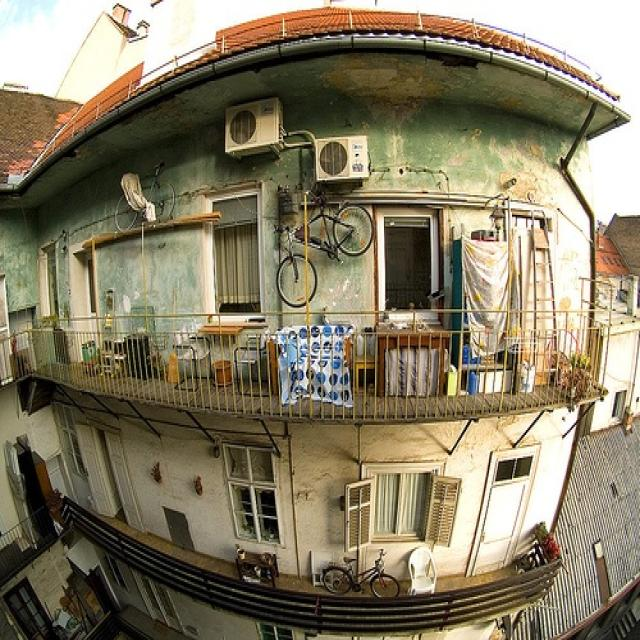bicycle: (271, 185, 379, 308), (317, 544, 403, 605)
